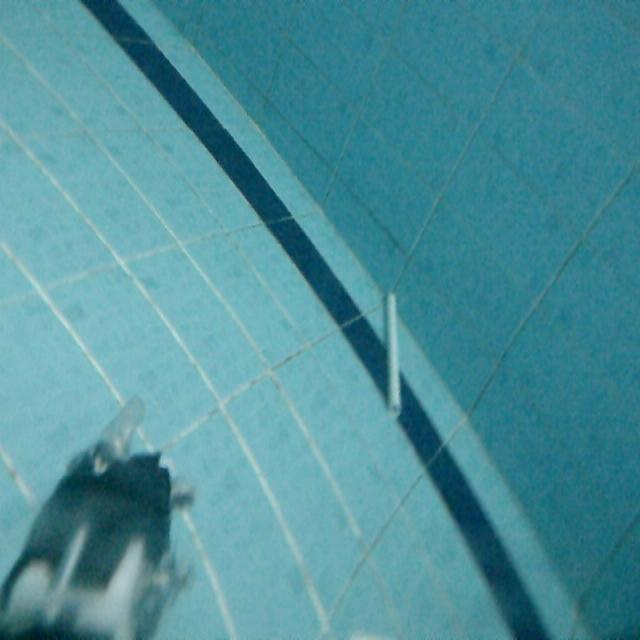Cube: (379, 285, 413, 420)
